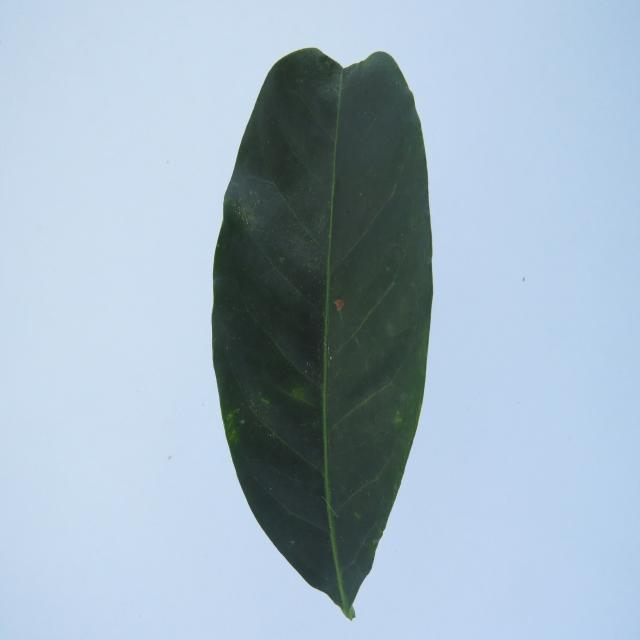DeficienciaNutricional-Boro: (212, 48, 432, 618)
